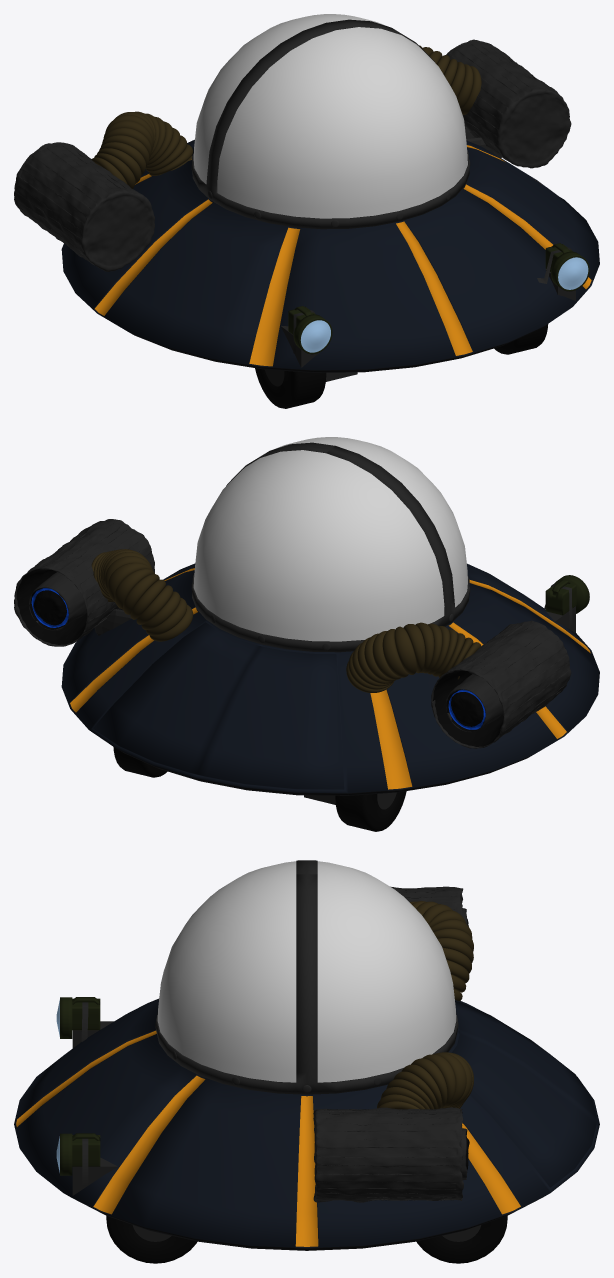
The model's file is space_ship_applied.obj.
3 views of the same model, one above another, from view 1: azimuth 30°, elevation 25°; view 2: azimuth 150°, elevation 25°; view 3: azimuth 270°, elevation 25° (orthographic). The views are drawn at different scales.
Parts seen in each view (by area): view 1: Body_Sphere_Material.006, Body_Sphere_Glass, Body_Sphere_grey, Body_Sphere_yellow, Body_Sphere_metal, Body_Sphere_tubes, Body_Sphere_Tires, Body_Sphere_Glass.001, Body_Sphere_Material.005, Body_Sphere_flashlight, Body_Sphere_flashlight_textured; view 2: Body_Sphere_Material.006, Body_Sphere_Glass, Body_Sphere_grey, Body_Sphere_tubes, Body_Sphere_Tires, Body_Sphere_metal, Body_Sphere_yellow, Body_Sphere_Material.005, Body_Sphere_flashlight, Body_Sphere_Engine_glow; view 3: Body_Sphere_Material.006, Body_Sphere_Glass, Body_Sphere_grey, Body_Sphere_metal, Body_Sphere_yellow, Body_Sphere_tubes, Body_Sphere_Tires, Body_Sphere_flashlight, Body_Sphere_Material.005, Body_Sphere_flashlight_textured.
Part boxes in pixels (x1,y1,x2,y2): Body_Sphere_Material.006: [61, 139, 599, 370]; Body_Sphere_Glass: [193, 14, 467, 218]; Body_Sphere_grey: [14, 39, 575, 386]; Body_Sphere_yellow: [95, 145, 591, 366]; Body_Sphere_metal: [191, 19, 470, 381]; Body_Sphere_tubes: [91, 45, 481, 188]; Body_Sphere_Tires: [255, 324, 548, 408]; Body_Sphere_Glass.001: [300, 257, 588, 352]; Body_Sphere_Material.005: [129, 327, 542, 372]; Body_Sphere_flashlight: [288, 243, 589, 354]; Body_Sphere_flashlight_textured: [293, 251, 583, 350]; Body_Sphere_Material.006: [61, 563, 599, 793]; Body_Sphere_Glass: [193, 437, 467, 641]; Body_Sphere_grey: [14, 519, 575, 809]; Body_Sphere_tubes: [91, 549, 481, 692]; Body_Sphere_Tires: [16, 569, 503, 831]; Body_Sphere_metal: [191, 442, 470, 804]; Body_Sphere_yellow: [70, 568, 590, 789]; Body_Sphere_Material.005: [119, 750, 532, 795]; Body_Sphere_flashlight: [545, 579, 583, 615]; Body_Sphere_Engine_glow: [31, 588, 485, 729]; Body_Sphere_Material.006: [14, 998, 599, 1247]; Body_Sphere_Glass: [157, 861, 456, 1082]; Body_Sphere_grey: [72, 886, 481, 1241]; Body_Sphere_metal: [155, 860, 458, 1094]; Body_Sphere_yellow: [16, 1030, 520, 1246]; Body_Sphere_tubes: [377, 901, 473, 1109]; Body_Sphere_Tires: [106, 909, 507, 1263]; Body_Sphere_flashlight: [72, 997, 100, 1166]; Body_Sphere_Material.005: [67, 1195, 546, 1250]; Body_Sphere_flashlight_textured: [60, 997, 72, 1175].
Size of the model in its own units: 3.52 by 2.04 by 3.34.
